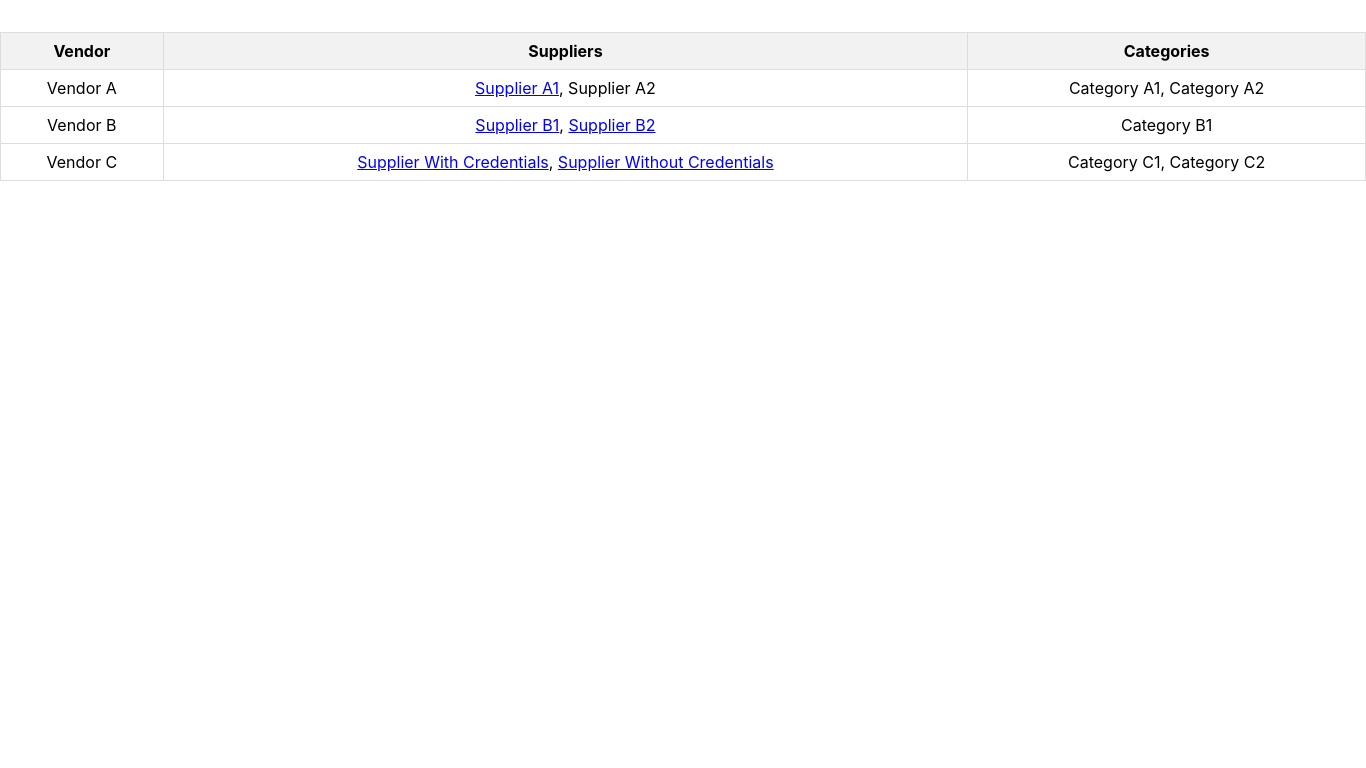
Test: VendorsTable › opens modal with supplier details on supplier click
What coordinates should you click on to do the following:
click the text "Supplier A1"
I would click on:
 (517, 88)
Its box is [475,78,559,98].
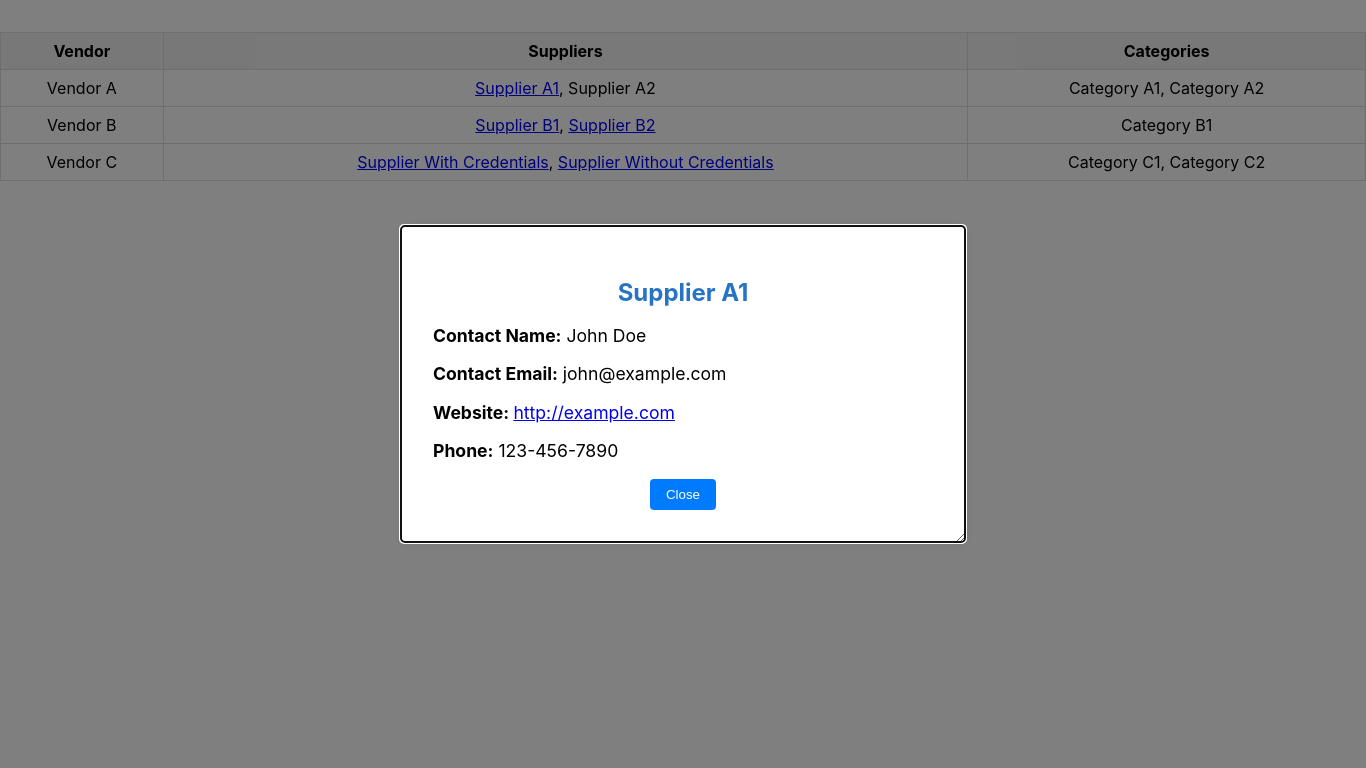
expect the heading "Supplier A1" is shown: met, box [618,278,748,307]
expect the text "John Doe" is shown: met, box [566,325,646,346]
expect the text "john@example.com" is shown: met, box [563,363,726,384]
